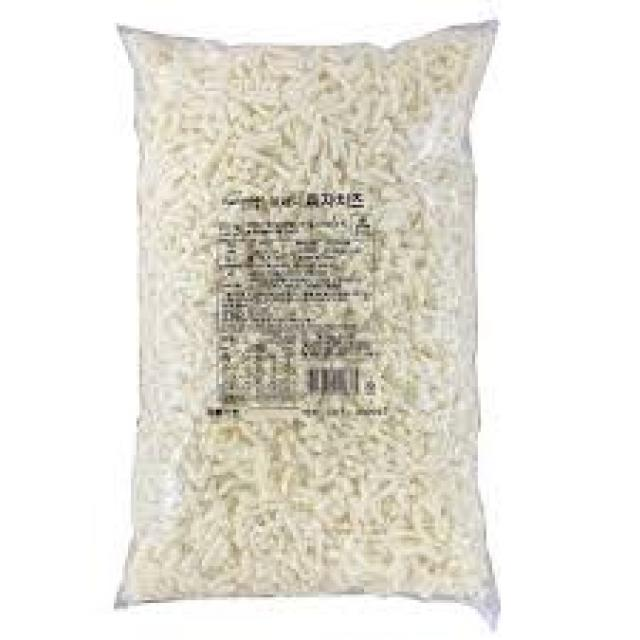Cheese: (142, 45, 484, 586)
